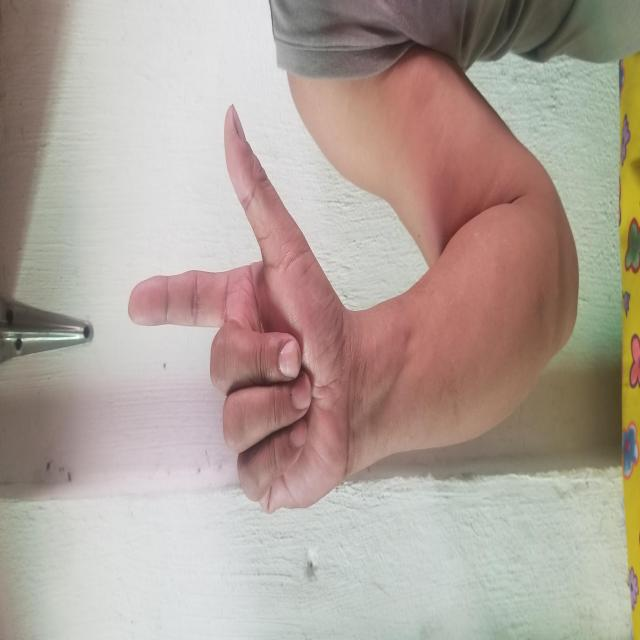L: (125, 129, 536, 346)
